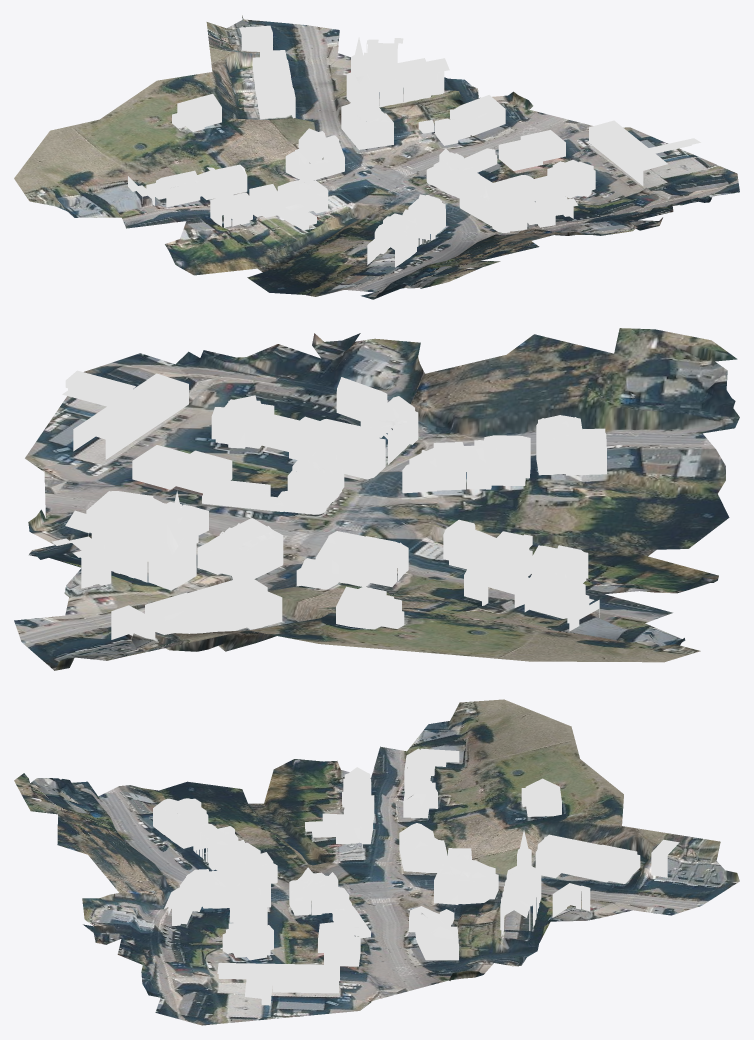
Rendered from mahalle.glb.
3 views of the same model, one above another, from view 1: azimuth 30°, elevation 25°; view 2: azimuth 150°, elevation 25°; view 3: azimuth 270°, elevation 25° (orthographic). The views are drawn at different scales.
Parts seen in each view (by area): view 1: Object.001, g_552.002; view 2: Object.001, g_552.002; view 3: Object.001, g_552.002.
Boxes of the visible parts, box(x1,y1,x2,y2) form: Object.001: box(14, 15, 739, 299); g_552.002: box(128, 25, 700, 267); Object.001: box(14, 328, 739, 670); g_552.002: box(52, 370, 606, 640); Object.001: box(14, 699, 739, 1025); g_552.002: box(153, 748, 679, 1005).
Bounding box in the file's own units: 282 × 40.21 × 291.
Materials: 2 (1 with a texture image).
